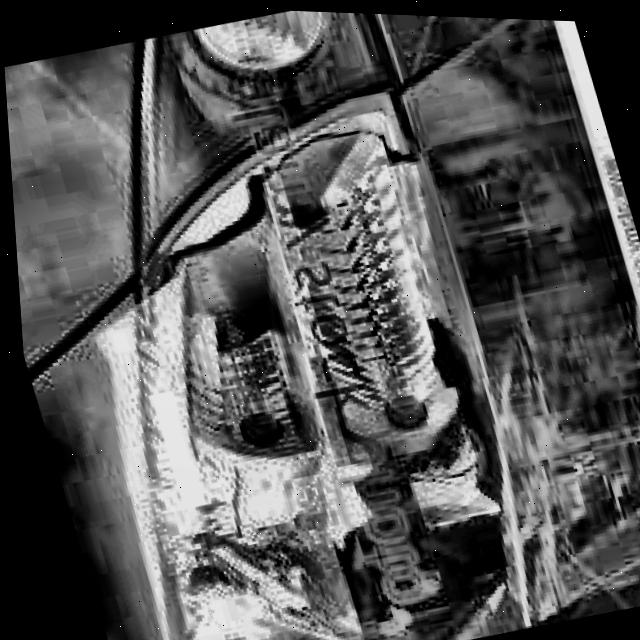head_lamp: (266, 131, 472, 436), (310, 428, 538, 640), (164, 214, 322, 451)
